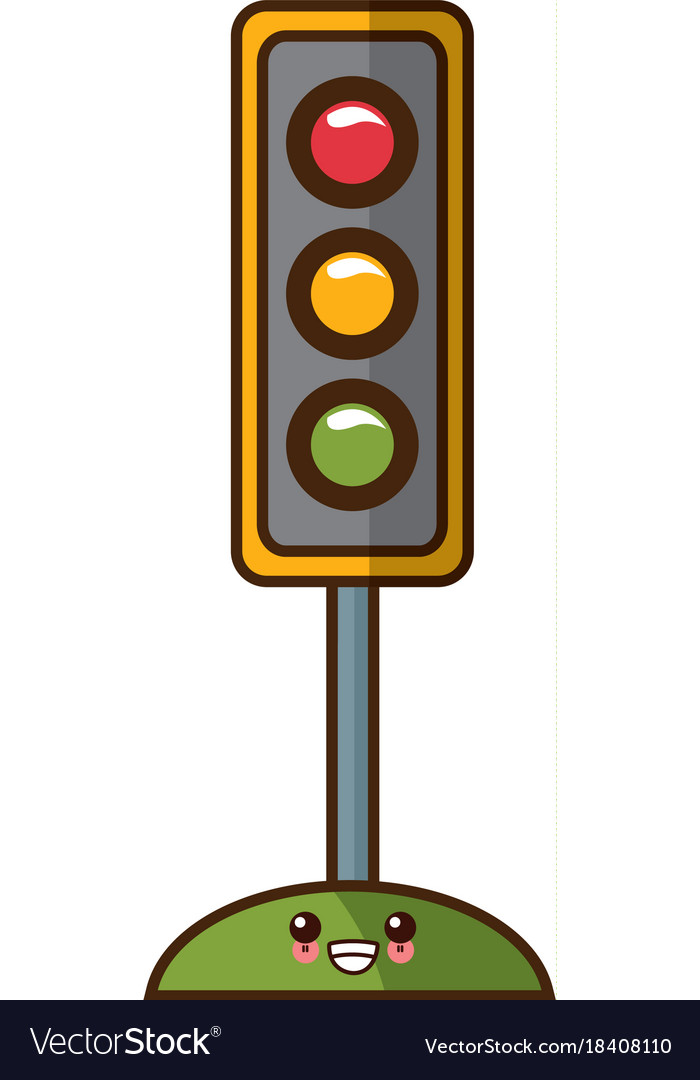trafficLight: (223, 1, 486, 593)
